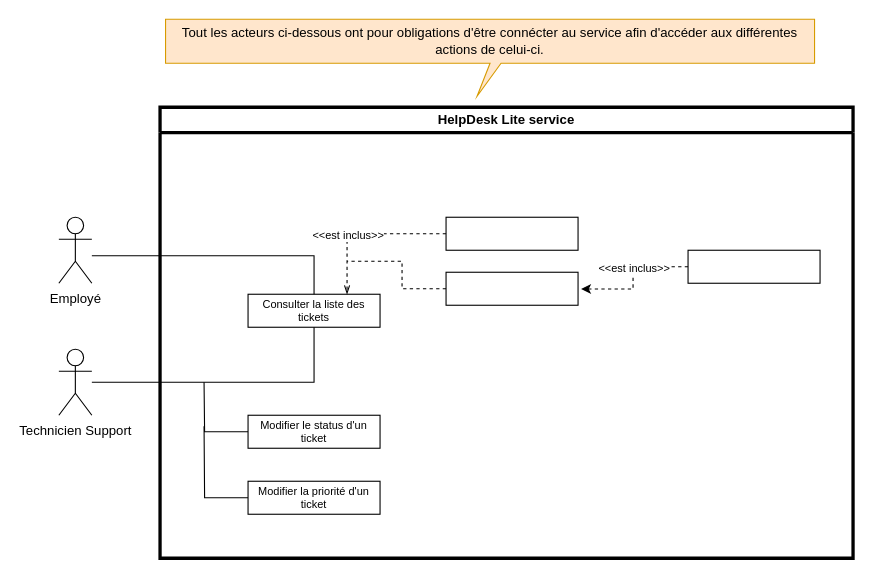
This 873x579 diagram has some shape labels left out. Here are the shapes that lost their labels. From the top down, the centre of each, then its label:
At pixel 511 233: "Créer un ticket".
At pixel 753 266: "Ajouter un commentaire".
At pixel 511 288: "Consulter un ticket".
